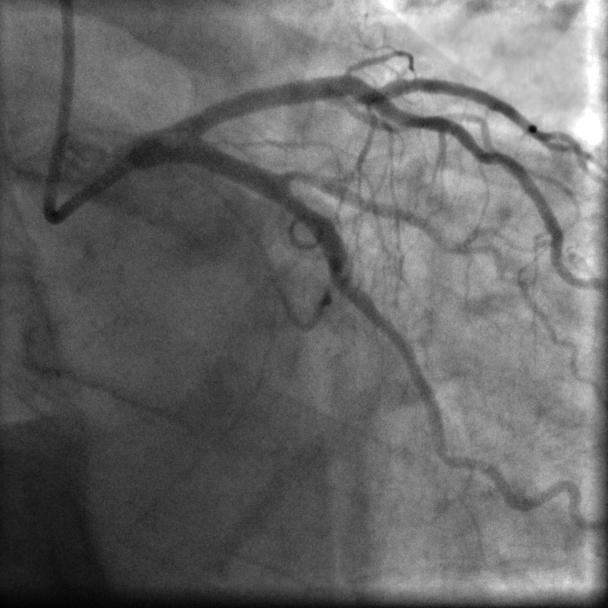Stenosis: (279, 163, 319, 193)
